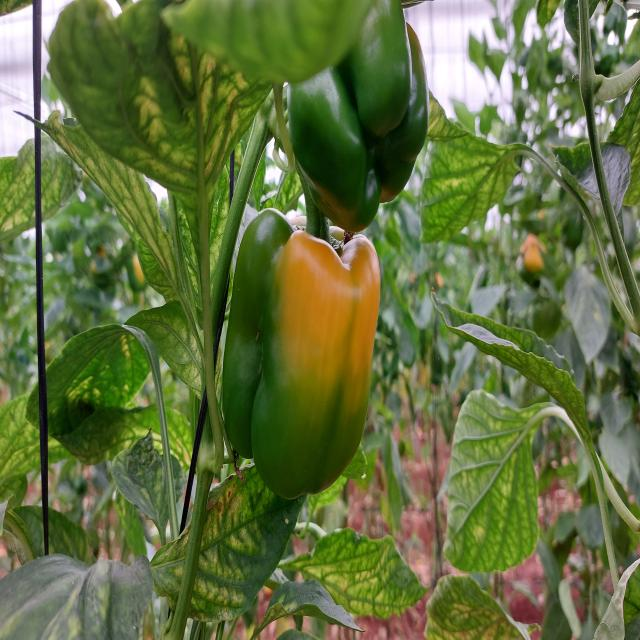Green--Not-ready-to-harvest: (296, 22, 439, 192)
GreenishYellow--Can-be-Harvested: (220, 202, 385, 516)
